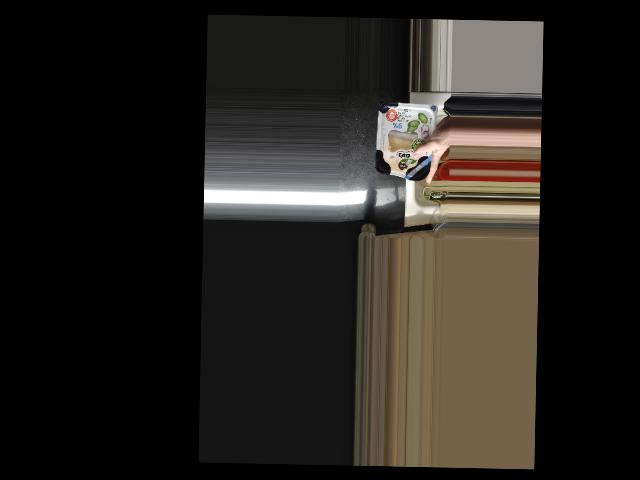cheese: (375, 104, 437, 181)
